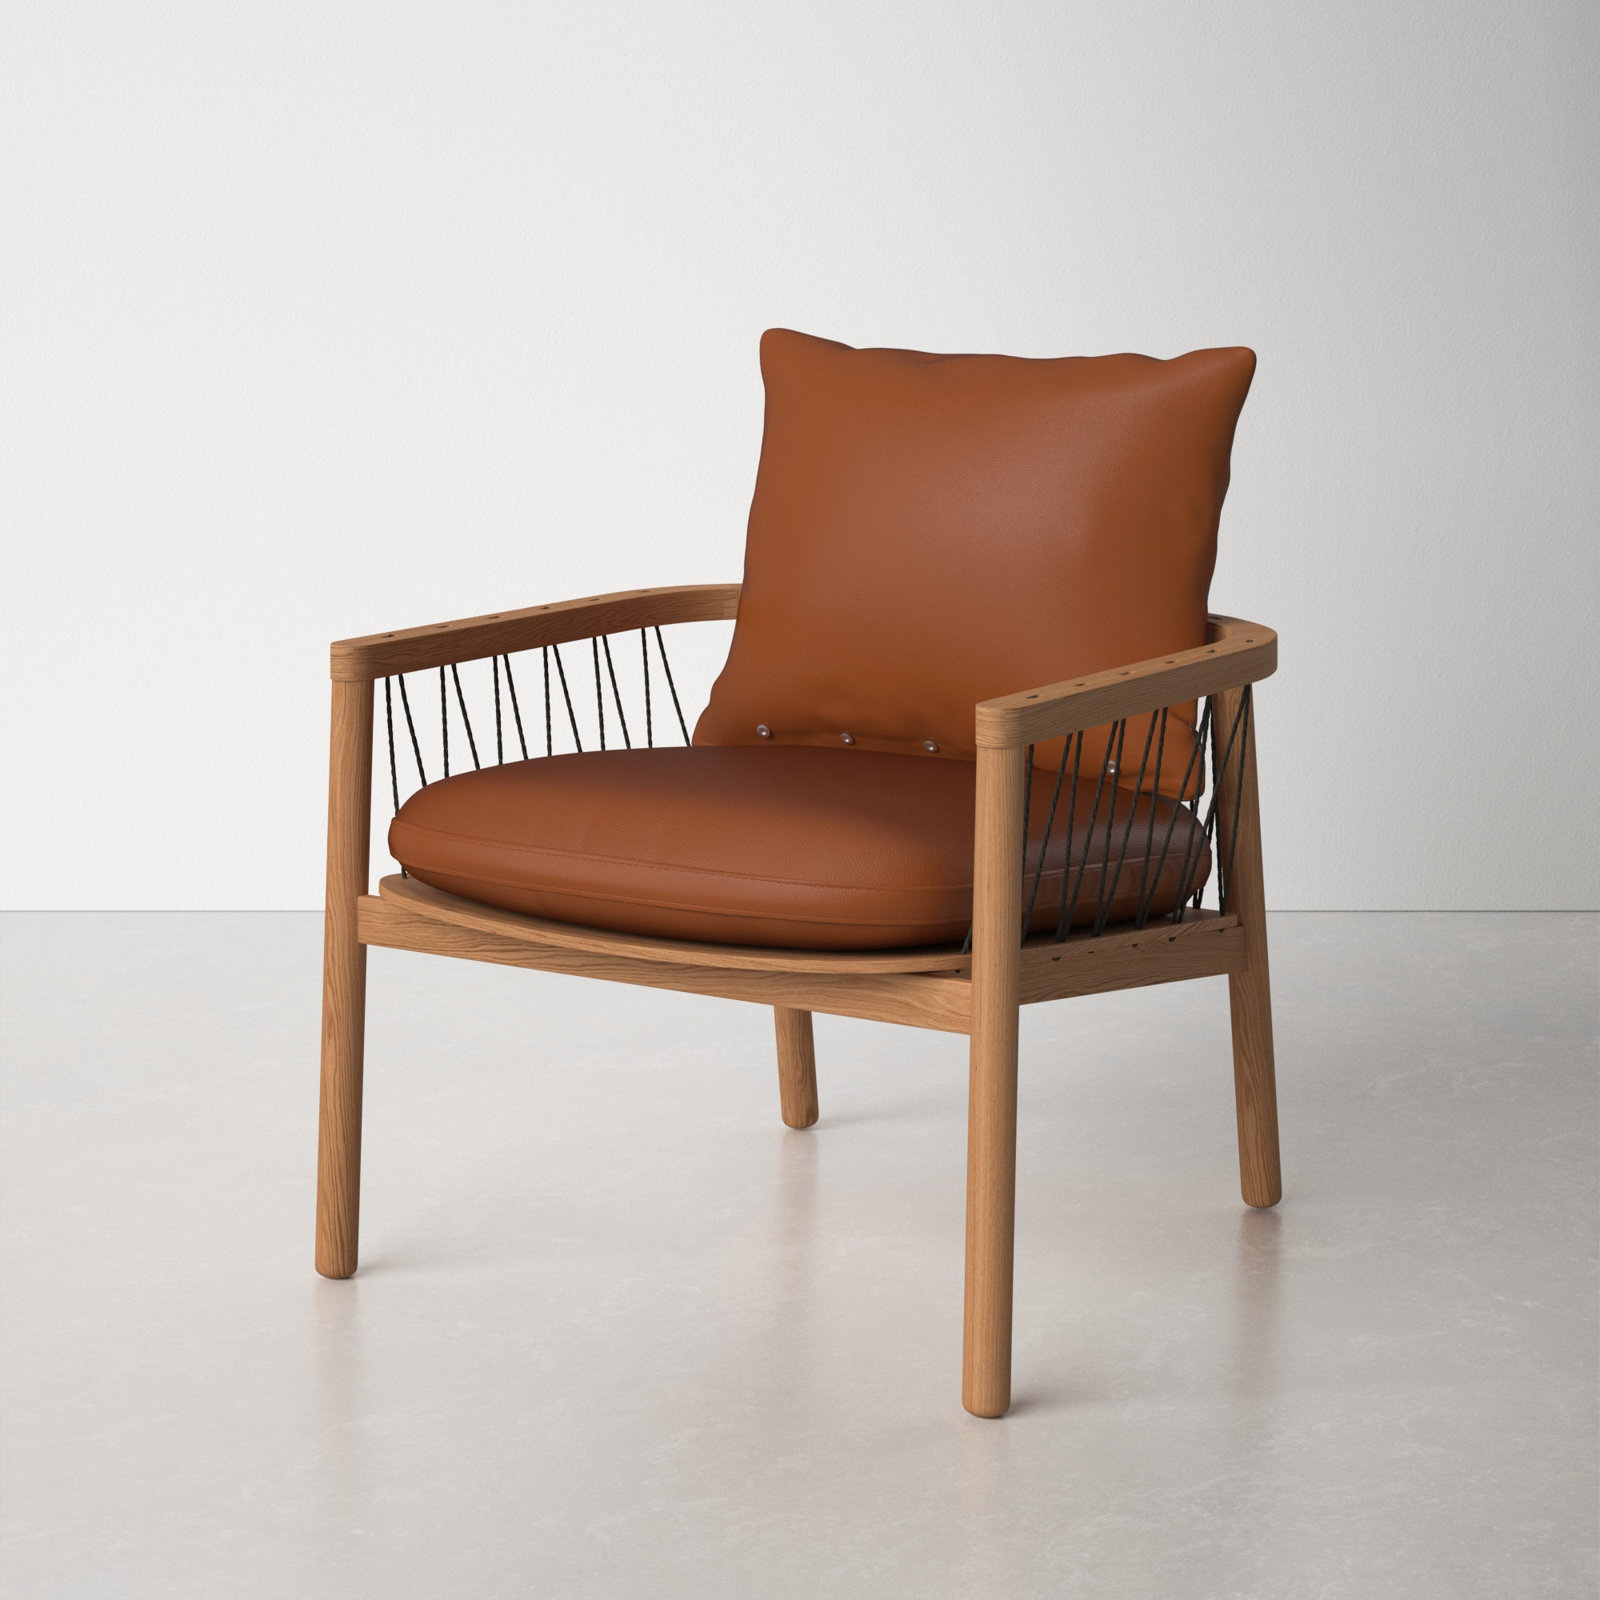obstacle: (316, 330, 1281, 1415)
